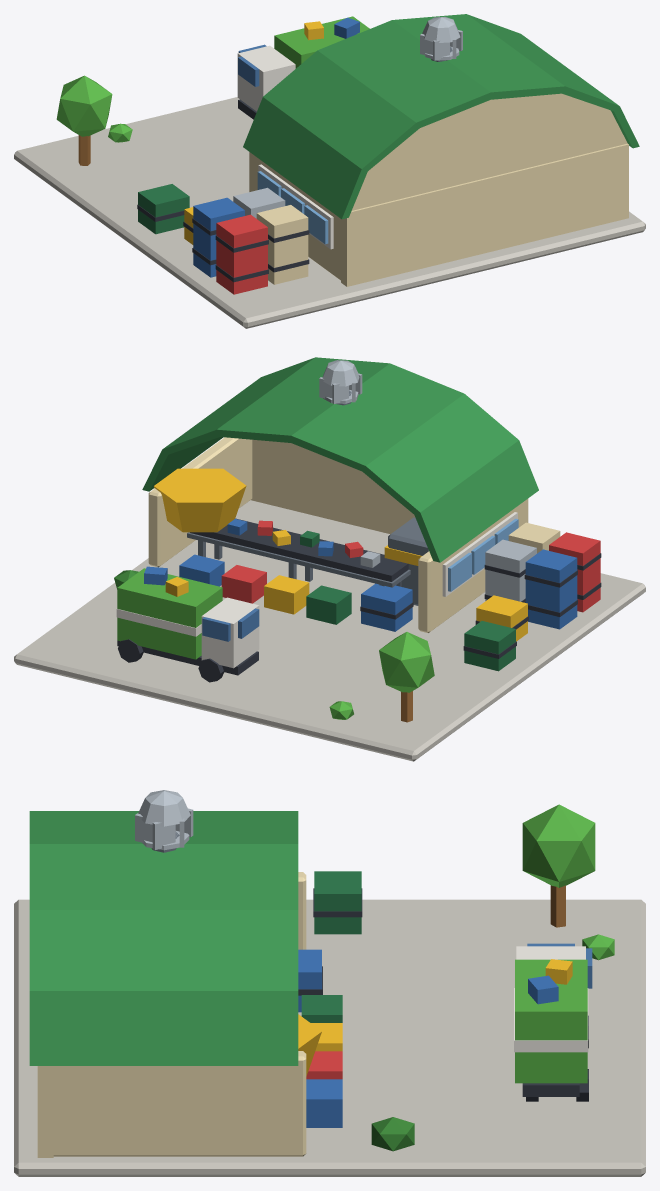
The model's file is recycling_coop.glb.
The picture shows the model from 3 angles, top to bottom: view 1: azimuth 30°, elevation 25°; view 2: azimuth 150°, elevation 25°; view 3: azimuth 270°, elevation 25°; orthographic projection. The views are drawn at different scales.
Visible parts, largest first — view 1: corpo, gira_1.001; view 2: corpo, gira_1.001; view 3: corpo, gira_1.001.
Part boxes in pixels (x1=…): corpo: x1=14, y1=14, x2=645, y2=328; gira_1.001: x1=420, y1=16, x2=462, y2=60; corpo: x1=14, y1=357, x2=645, y2=761; gira_1.001: x1=319, y1=360, x2=362, y2=403; corpo: x1=14, y1=804, x2=645, y2=1176; gira_1.001: x1=135, y1=790, x2=193, y2=850.
Size of the model in its own units: 4 by 2.01 by 4.
